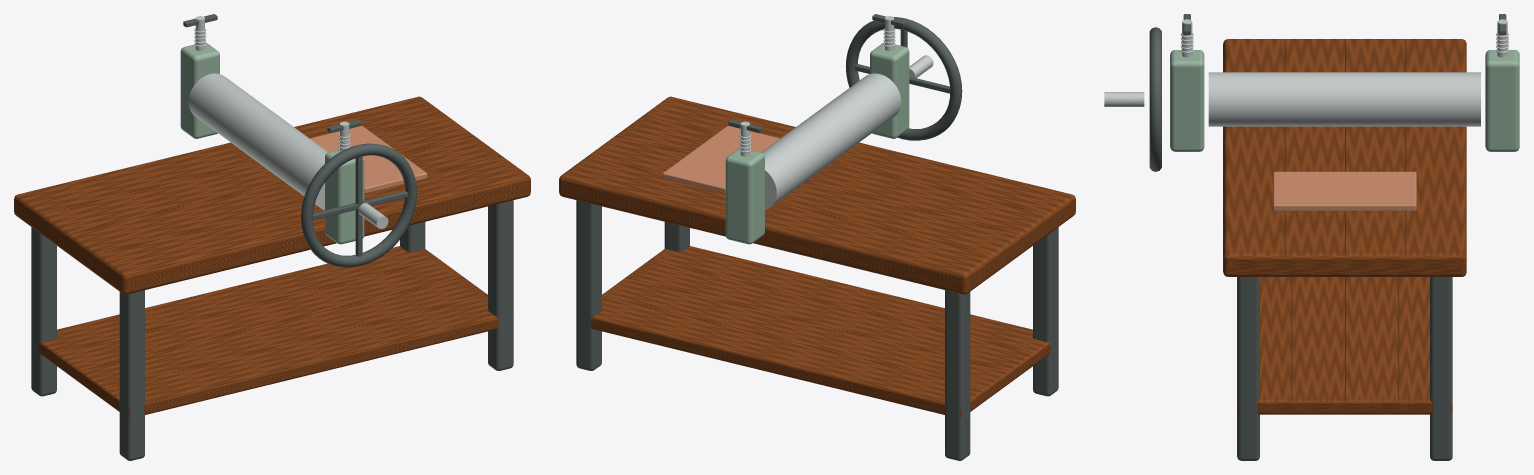
File: ceramics-pottery-studio-slab-roller-8c42c04e__29486.glb
The picture shows the model from 3 angles, left to right: view 1: azimuth 30°, elevation 25°; view 2: azimuth 150°, elevation 25°; view 3: azimuth 270°, elevation 25°; orthographic projection. The views are drawn at different scales.
Parts seen in each view (by area): view 1: slab-roller; view 2: slab-roller; view 3: slab-roller.
Boxes of the visible parts, bbox=[...] form: slab-roller: bbox=[14, 14, 530, 460]; slab-roller: bbox=[559, 14, 1075, 460]; slab-roller: bbox=[1104, 14, 1519, 460].
Bounding box in the file's own units: 1.8 × 1.3 × 1.45.
Materials: 5 (1 with a texture image).
